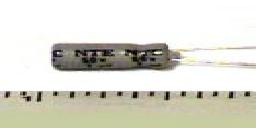Electrolytic-Capacitor: (50, 39, 256, 73)
